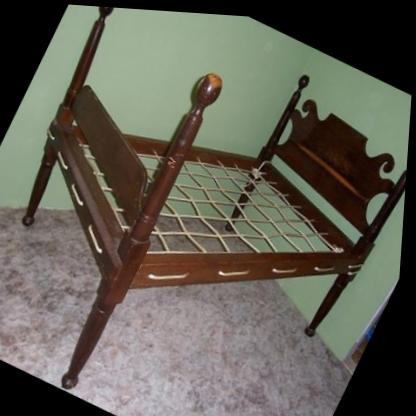Bed: (25, 5, 410, 388)
Carpet: (71, 276, 362, 416)
